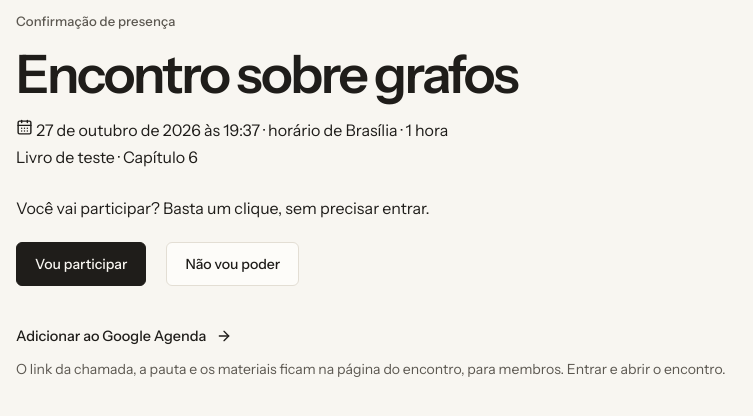
opening the email link shows the meeting but only a click answers
The image size is (753, 416).
Expected: the heading "Encontro sobre grafos" is shown, [16,42,517,106]
Click the button "Vou participar": (81, 264) [16,242,146,286]
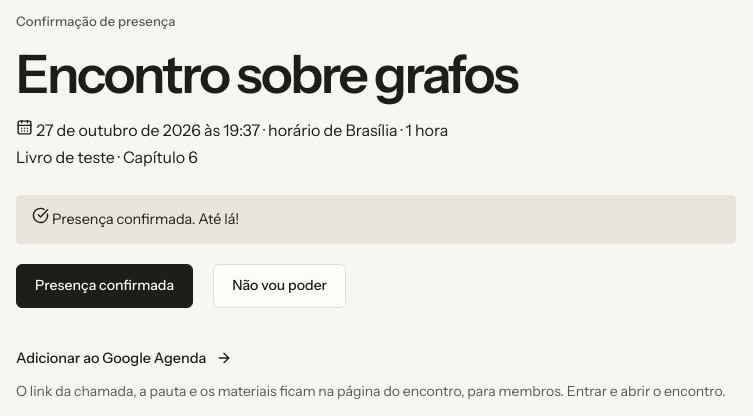
Expected: the text "Presença confirmada. Até lá!" is shown, [16,195,736,244]
